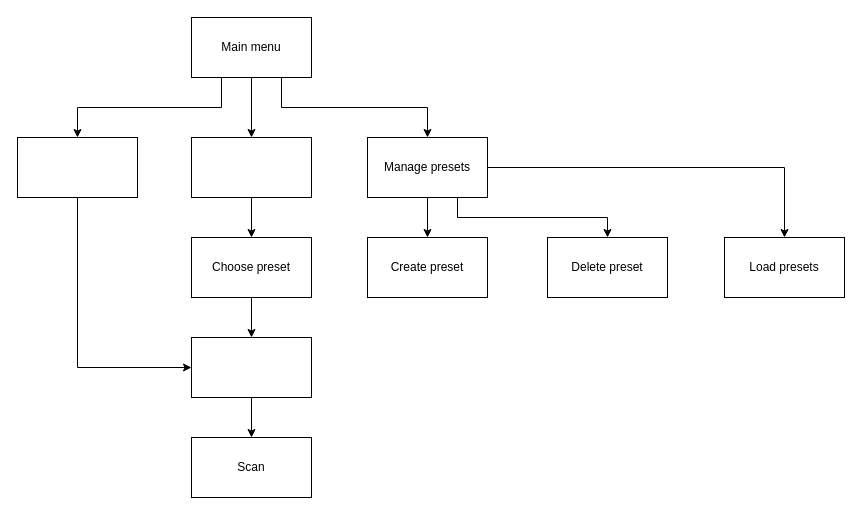
The diagram is 862 pixels wide and 515 high, and some of its shapes have lost their labels. The shapes that lost their labels are listed below. From the top down, each one's centre as x and y in pixels, then its label:
pixel 77 167: Default scan
pixel 251 167: Preset scan
pixel 251 367: Choose interfaces
